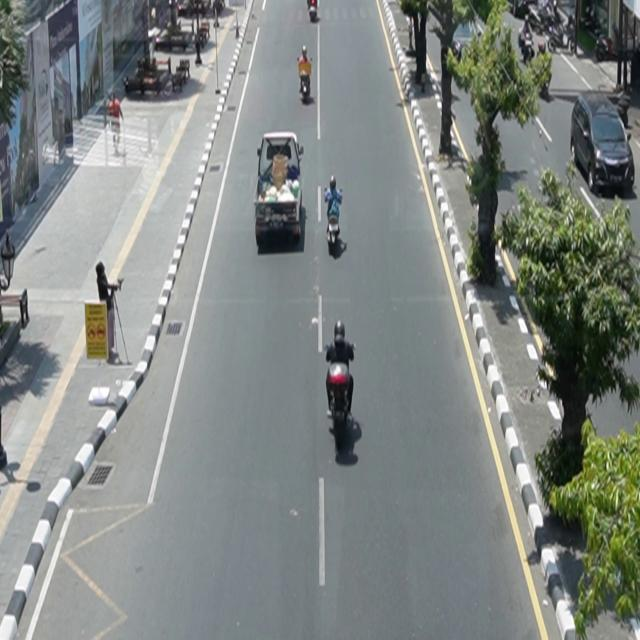car: (571, 91, 636, 194), (254, 132, 305, 246)
